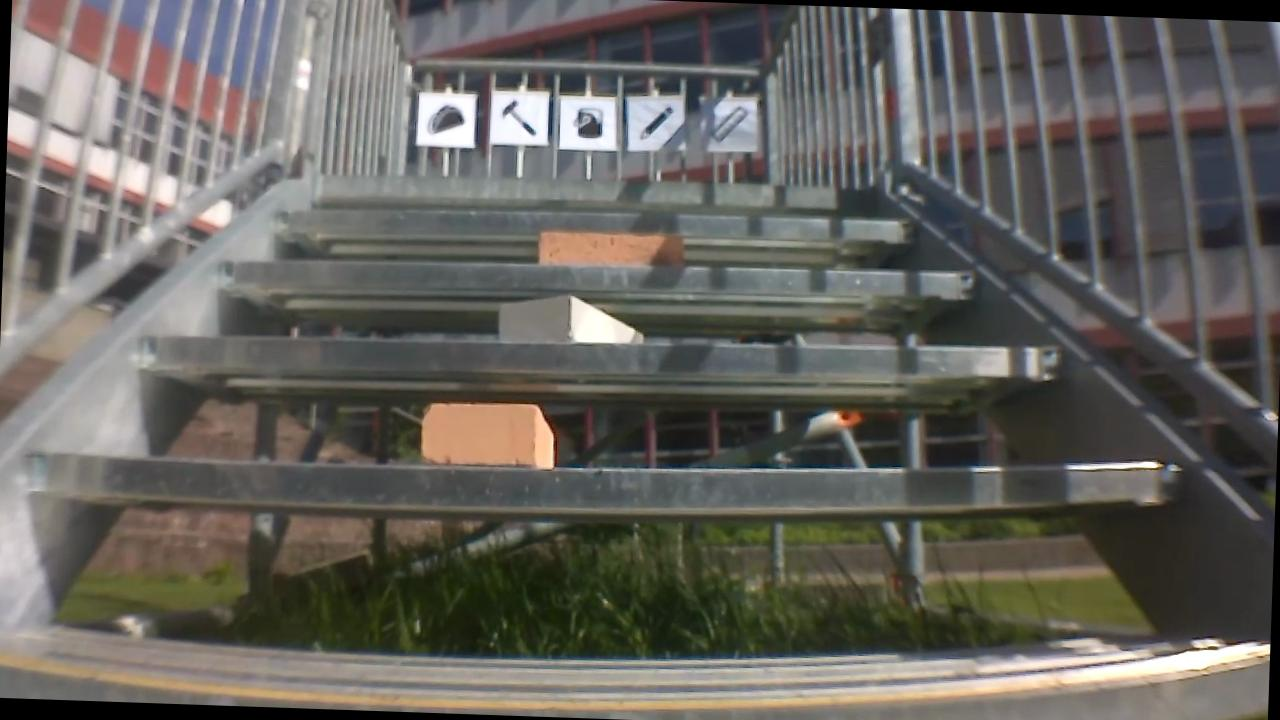brick: (414, 398, 558, 470), (488, 291, 647, 348), (535, 224, 690, 270)
bucket: (569, 107, 606, 144)
edge: (19, 429, 1189, 536), (143, 327, 1061, 403), (209, 242, 980, 324), (262, 198, 922, 257), (313, 164, 878, 218)
hammer: (497, 96, 540, 139)
pencil: (637, 101, 678, 145)
ruler: (710, 106, 742, 143)
taco: (423, 95, 468, 134)
